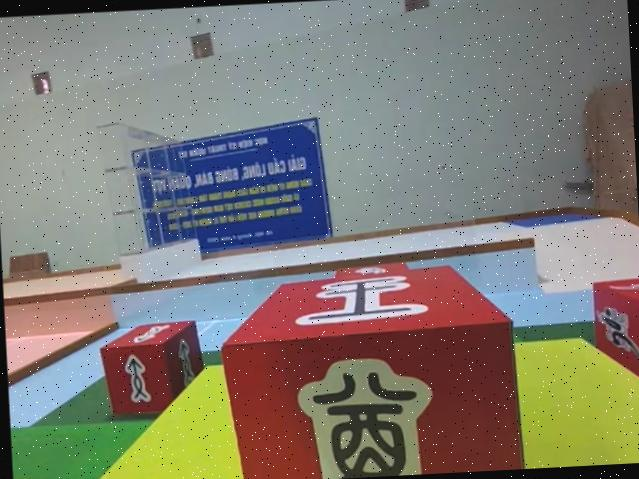R1: (589, 274, 639, 385)
R2 Fake: (218, 259, 527, 479)
R2 Real: (96, 317, 207, 418)
